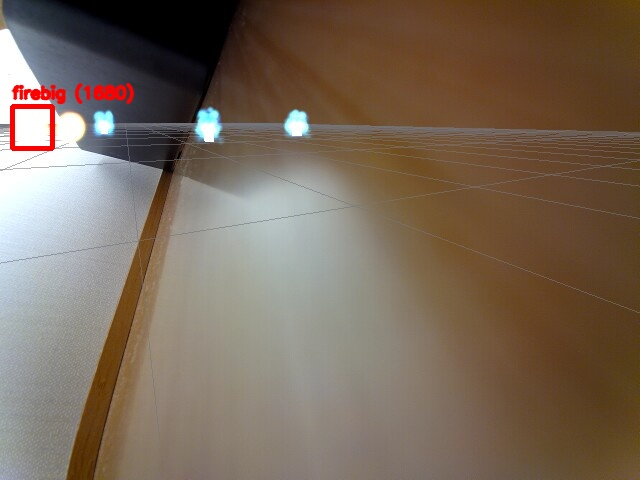firebig: (12, 106, 52, 148)
